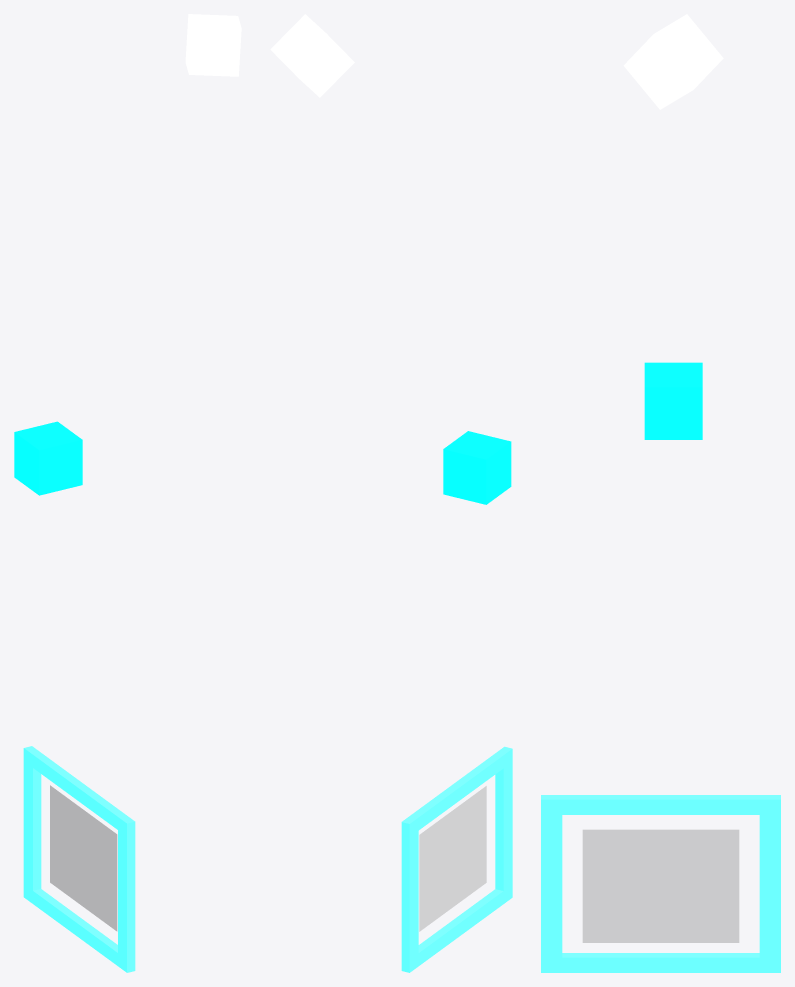
Rendered from silver_shield.gltf.
The picture shows the model from 3 angles, left to right: view 1: azimuth 30°, elevation 25°; view 2: azimuth 150°, elevation 25°; view 3: azimuth 270°, elevation 25°; orthographic projection. The views are drawn at different scales.
Parts seen in each view (by area): view 1: particle.000, particle.016, particle.031; view 2: particle.000, particle.016, particle.031; view 3: particle.000, particle.031, particle.016.
Part boxes in pixels (x1,y1,x2,y2): particle.000: (23, 746, 135, 972); particle.016: (14, 421, 82, 495); particle.031: (185, 14, 241, 76); particle.000: (401, 746, 512, 972); particle.016: (443, 431, 511, 504); particle.031: (270, 14, 354, 97); particle.000: (541, 795, 780, 972); particle.031: (623, 14, 723, 109); particle.016: (644, 362, 702, 439).
Size of what is drawn, in the model's own units: 0.2564 by 0.9738 by 0.2066.
